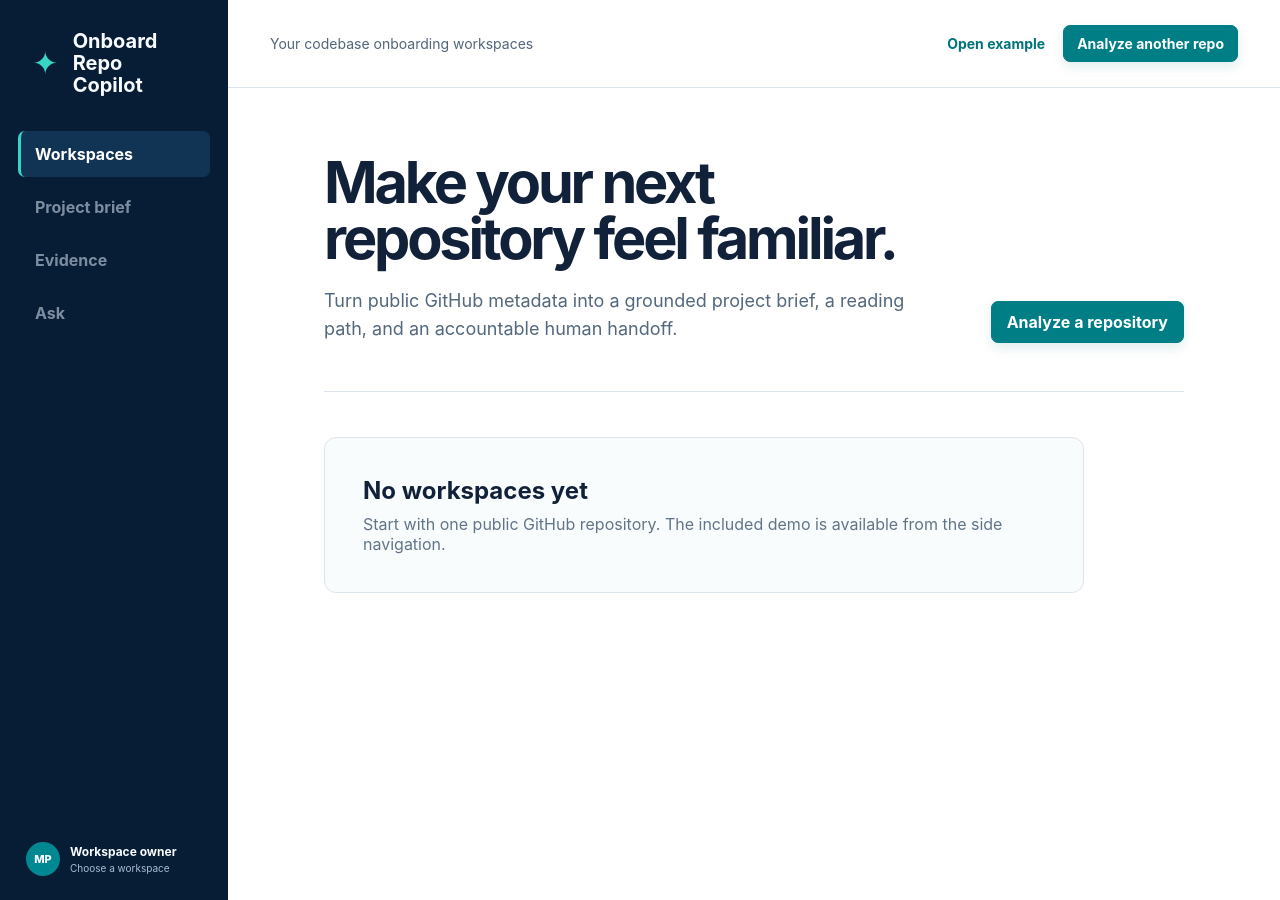
Test: Onboard Repo Copilot › creates and opens the example workspace
Expected: the heading "No workspaces yet" is shown, [363,476,588,505]
Click the button "Open example": x=996, y=44 [947,35,1045,52]
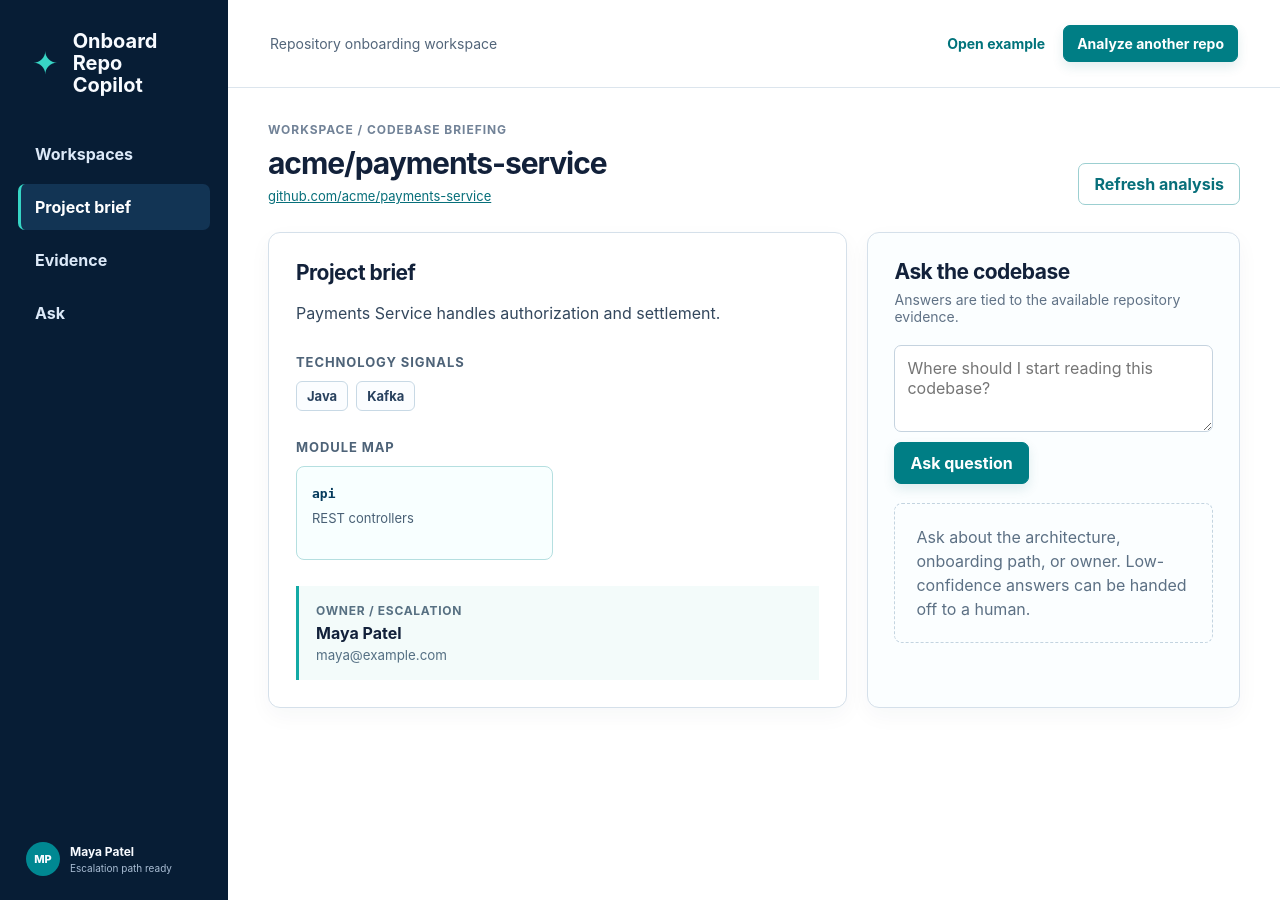
Now the heading "acme/payments-service" is shown, box [268,145,607,181]
Now the text "Payments Service handles authorization and settlement." is shown, box [296,303,720,323]
